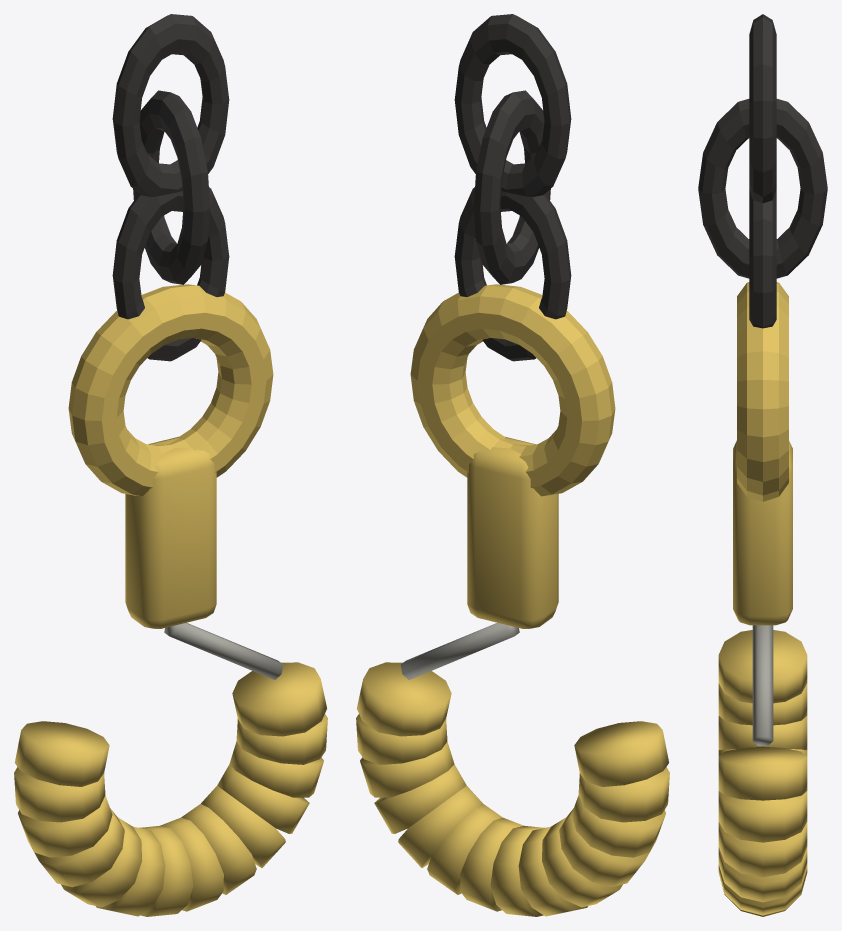
File: hook.glb
3 renders of one model, left to right at view 1: azimuth 30°, elevation 25°; view 2: azimuth 150°, elevation 25°; view 3: azimuth 270°, elevation 25°, orthographic.
Parts seen in each view (by area): view 1: eye, shank, link.002, link.001, link, j.013, j, j.001, j.002, j.003, j.010, j.009 (+8 smaller); view 2: eye, shank, link.002, link.001, link, j.013, j, j.001, j.002, j.003, j.010, j.009 (+8 smaller); view 3: link.001, eye, shank, link.002, j.013, j, j.012, link, j.011, latch, j.010, j.002 (+2 smaller).
Boxes of the visible parts, x1,y1,x2,y2 form: eye: (68,284,273,496); shank: (125,436,216,628); link.002: (112,14,229,196); link.001: (133,90,210,284); link: (112,187,229,361); j.013: (232,662,327,736); j: (15,721,109,786); j.001: (14,767,105,822); j.002: (18,795,112,857); j.003: (34,808,124,887); j.010: (217,764,309,833); j.009: (201,785,285,867); eye: (410,284,615,496); shank: (467,436,558,628); link.002: (454,14,571,196); link.001: (473,90,550,284); link: (454,187,571,361); j.013: (356,662,451,736); j: (574,721,668,786); j.001: (578,767,669,822); j.002: (571,795,665,857); j.003: (559,808,649,887); j.010: (374,764,466,833); j.009: (398,785,482,867); link.001: (698,99,827,278); eye: (737,282,788,501); shank: (733,440,792,625); link.002: (749,14,776,203); j.013: (718,746,807,800); j: (718,630,807,703); j.012: (718,791,807,842); link: (749,189,776,328); j.011: (718,822,807,877); latch: (752,625,773,745); j.010: (718,847,807,902); j.002: (718,716,807,749).
Bounding box in the file's own units: 0.2015 × 0.5716 × 0.076.
